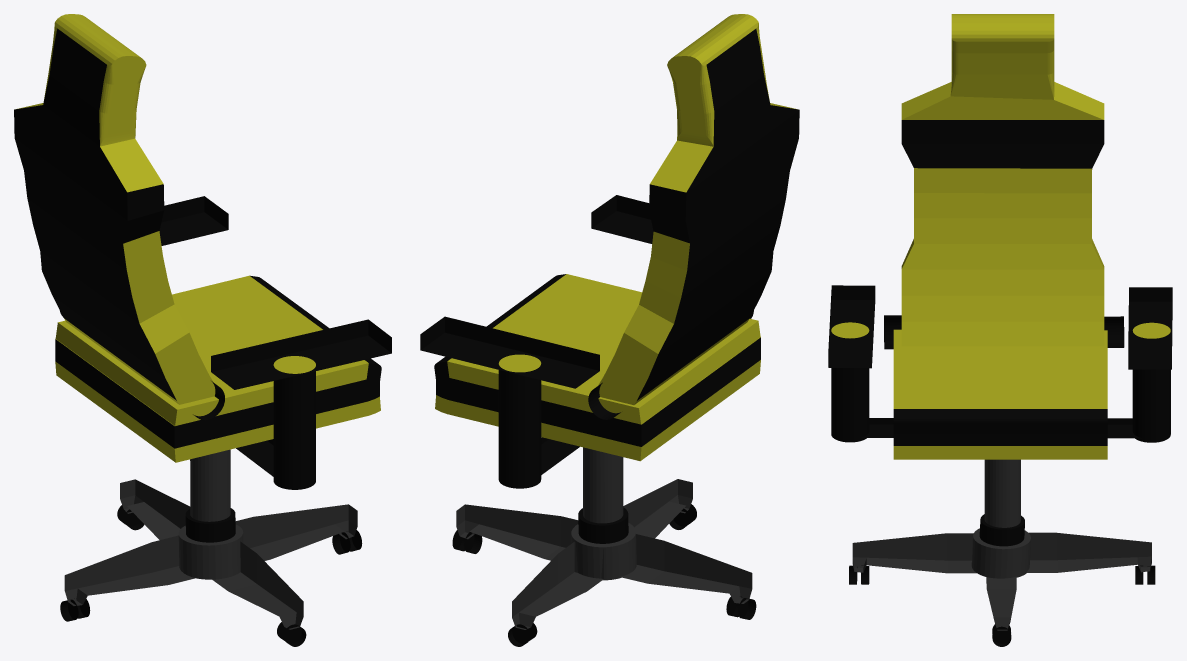
The model's file is chair.glb.
3 views of the same model, side by side, from view 1: azimuth 30°, elevation 25°; view 2: azimuth 150°, elevation 25°; view 3: azimuth 270°, elevation 25° (orthographic). The views are drawn at different scales.
Parts seen in each view (by area): view 1: Chair, Back; view 2: Chair, Back; view 3: Back, Chair.
Boxes of the visible parts, bbox=[...] form: Chair: bbox=[55, 196, 391, 646]; Back: bbox=[14, 14, 215, 404]; Chair: bbox=[420, 195, 760, 646]; Back: bbox=[598, 14, 799, 405]; Back: bbox=[901, 14, 1104, 346]; Chair: bbox=[828, 285, 1172, 646].
Bounding box in the file's own units: 0.931 × 1.76 × 1.06.
